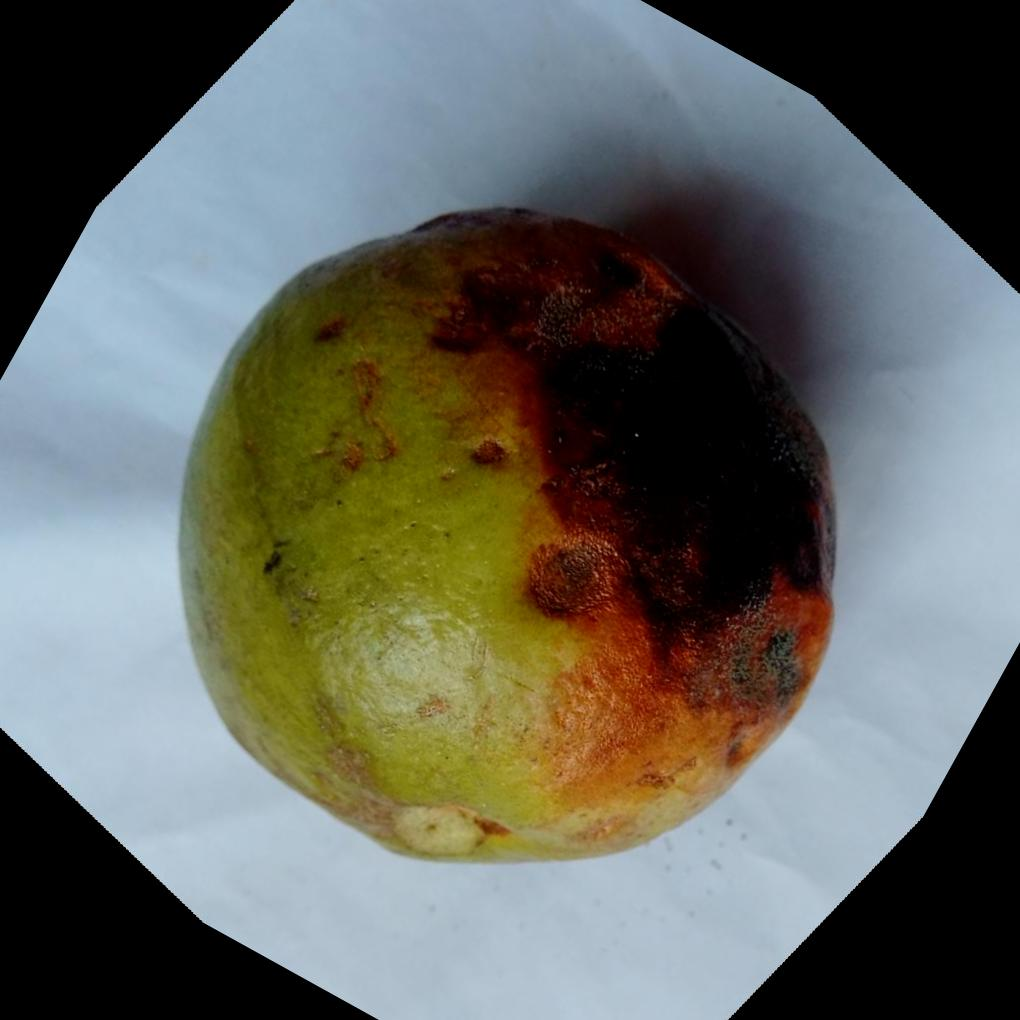FreshOrange: (176, 201, 840, 864)
